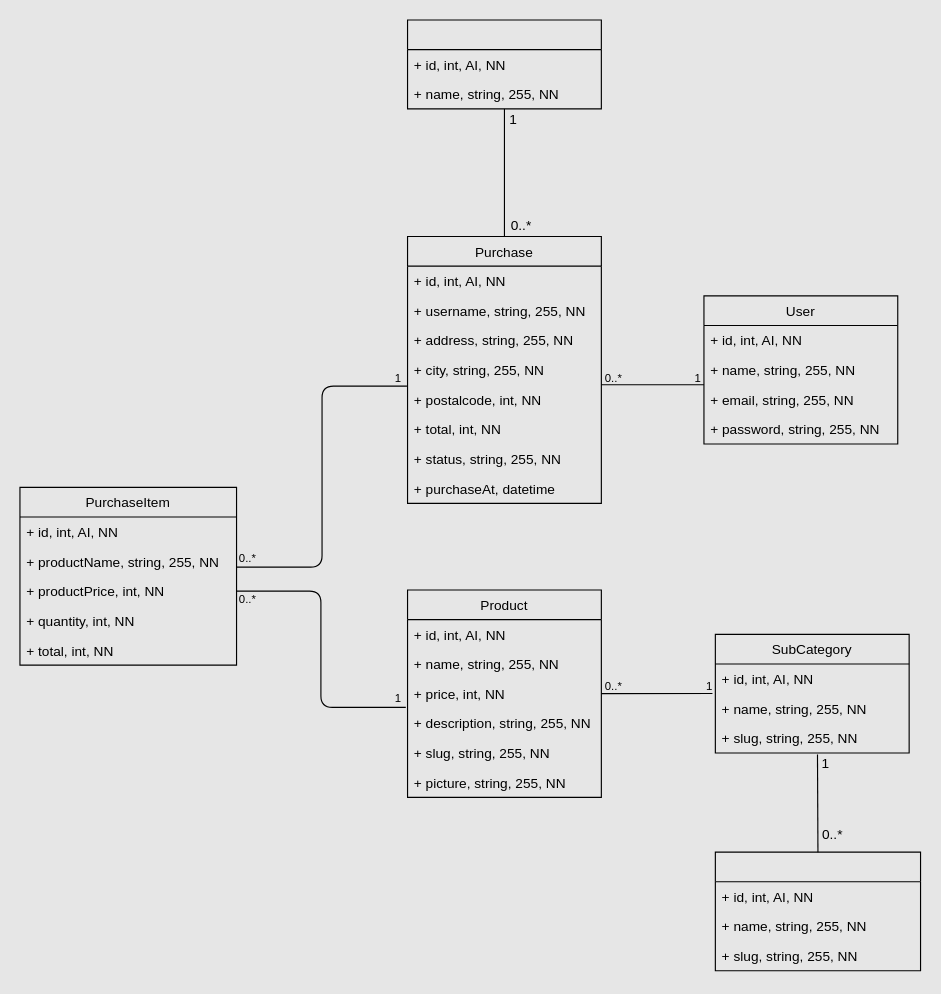
Some shapes in this 941 by 994 pixel diagram are drawn without their labels. The shapes that lost their labels are listed below. From the top down, each one's box as (x1, y1, x2, y2) in pixels, then its label:
(406, 19, 601, 109): Status
(714, 851, 921, 971): Category
